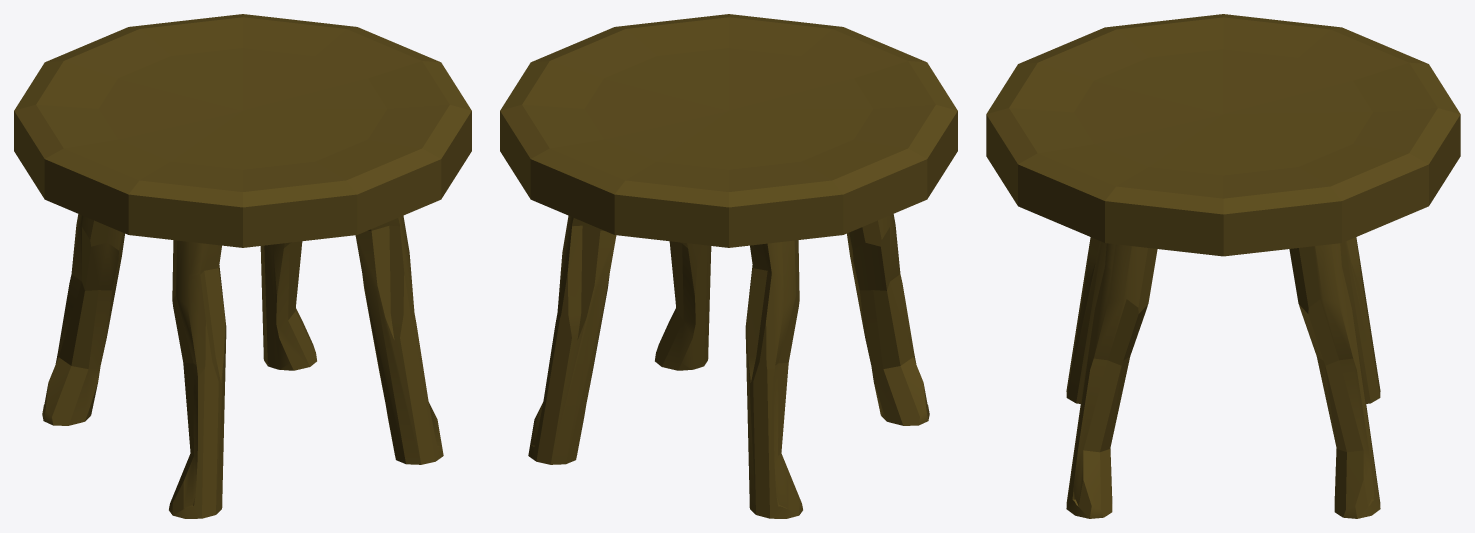
Rendered from Stool.fbx.
3 renders of one model, left to right at view 1: azimuth 30°, elevation 25°; view 2: azimuth 150°, elevation 25°; view 3: azimuth 270°, elevation 25°, orthographic. The views are drawn at different scales.
Parts seen in each view (by area): view 1: pCylinder2; view 2: pCylinder2; view 3: pCylinder2.
Boxes of the visible parts, x1,y1,x2,y2 form: pCylinder2: (14,14,471,518); pCylinder2: (500,14,957,518); pCylinder2: (986,14,1460,518).
Size of the model in its own units: 15.64 by 12.48 by 15.64.
